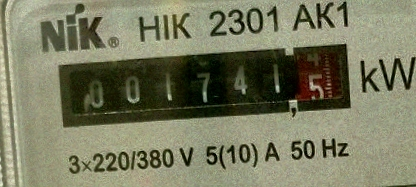0: (121, 71, 142, 106), (85, 76, 106, 110)
1: (157, 67, 176, 104), (267, 60, 284, 96)
4: (229, 61, 251, 97), (304, 49, 321, 68)
5: (304, 69, 325, 101)
7: (193, 68, 212, 104)
screen: (51, 36, 358, 133)
